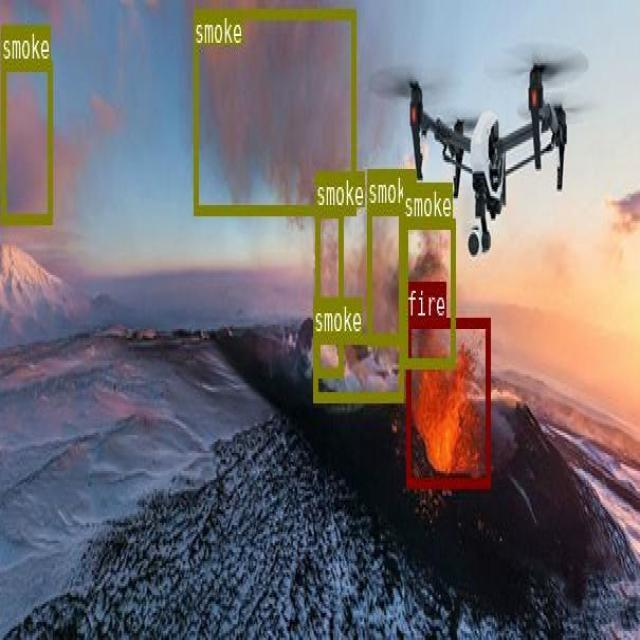fire: (406, 318, 490, 486)
smoke: (193, 7, 355, 213), (1, 59, 52, 222), (402, 218, 455, 366), (312, 333, 403, 399), (366, 204, 403, 344), (315, 207, 342, 376)
